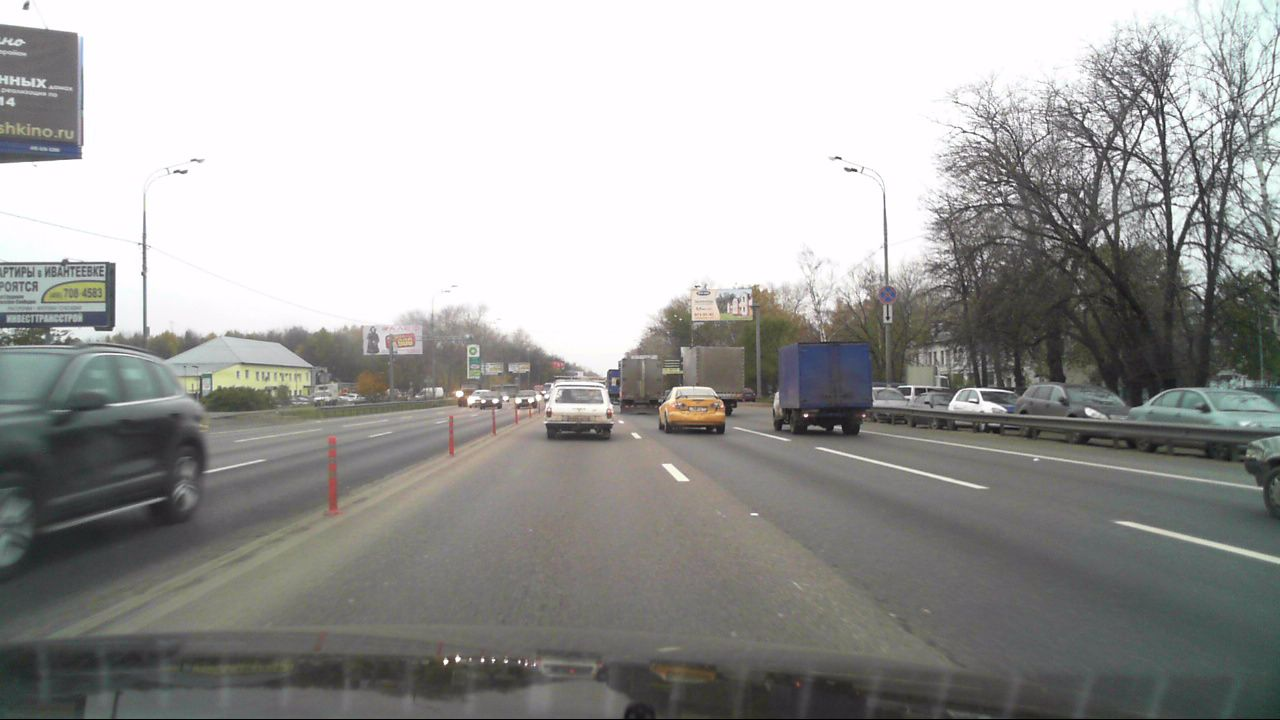No Parking: (878, 286, 895, 304)
